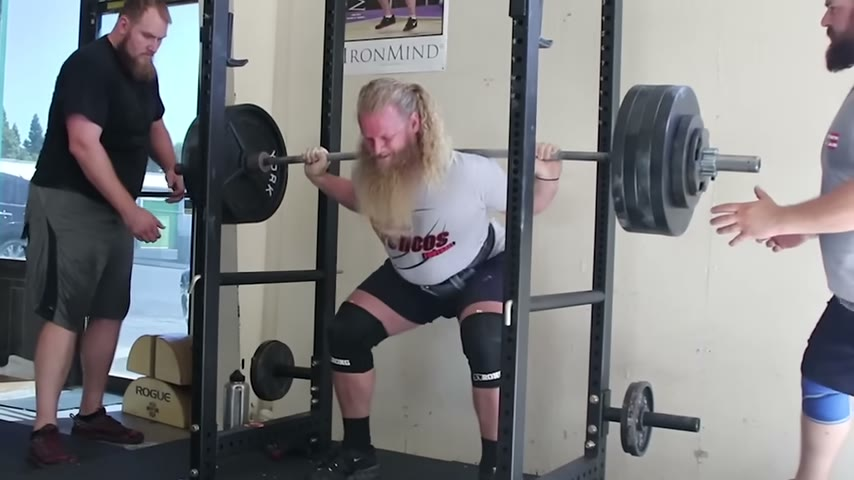barbell_plate_side: (660, 81, 769, 278)
